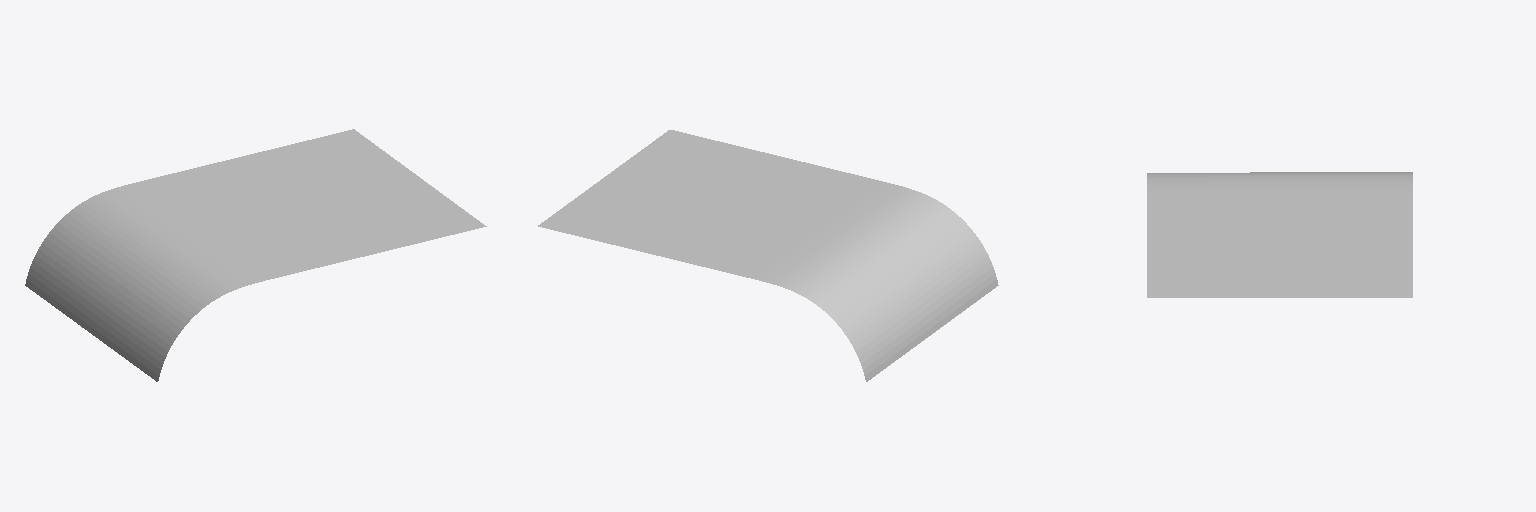
The model's file is CurvePaper_000058.obj.
3 renders of one model, left to right at view 1: azimuth 30°, elevation 25°; view 2: azimuth 150°, elevation 25°; view 3: azimuth 270°, elevation 25°, orthographic.
Visible parts, largest first — view 1: Plane; view 2: Plane; view 3: Plane.
Part boxes in pixels (bbox=[...]): Plane: bbox=[25, 129, 486, 381]; Plane: bbox=[538, 130, 998, 381]; Plane: bbox=[1147, 172, 1412, 297].
Size of the model in its own units: 3.23 by 0.7165 by 2.26.